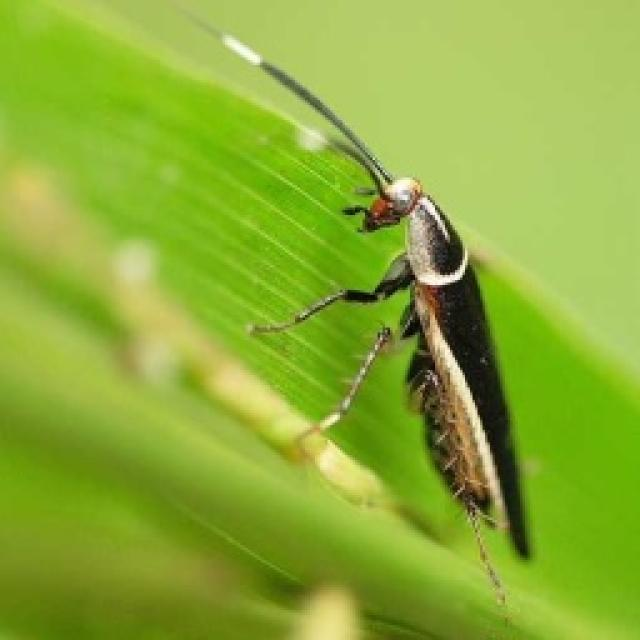cockroach: (182, 14, 540, 615)
